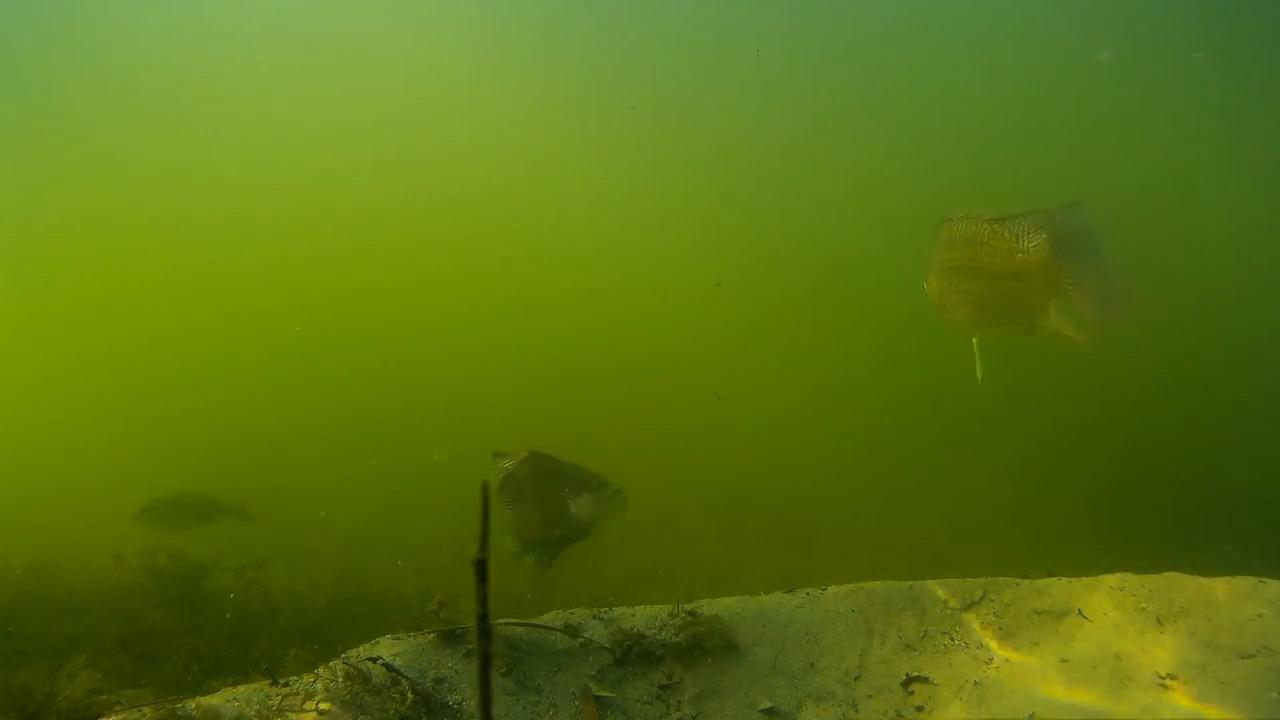Tilapia: (924, 190, 1147, 424), (494, 440, 647, 602), (125, 474, 267, 546)
